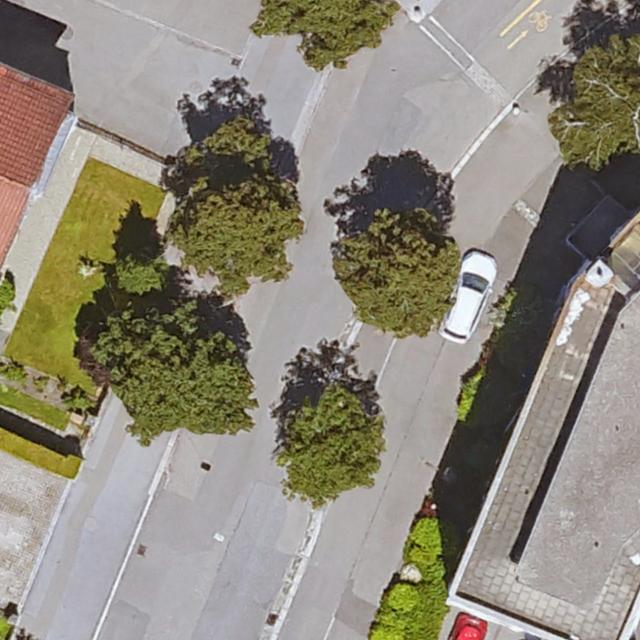tree: (88, 301, 252, 433), (174, 175, 299, 286), (338, 216, 456, 333), (279, 388, 383, 501), (554, 36, 640, 168), (255, 0, 398, 69), (165, 120, 276, 170), (112, 254, 168, 297)
